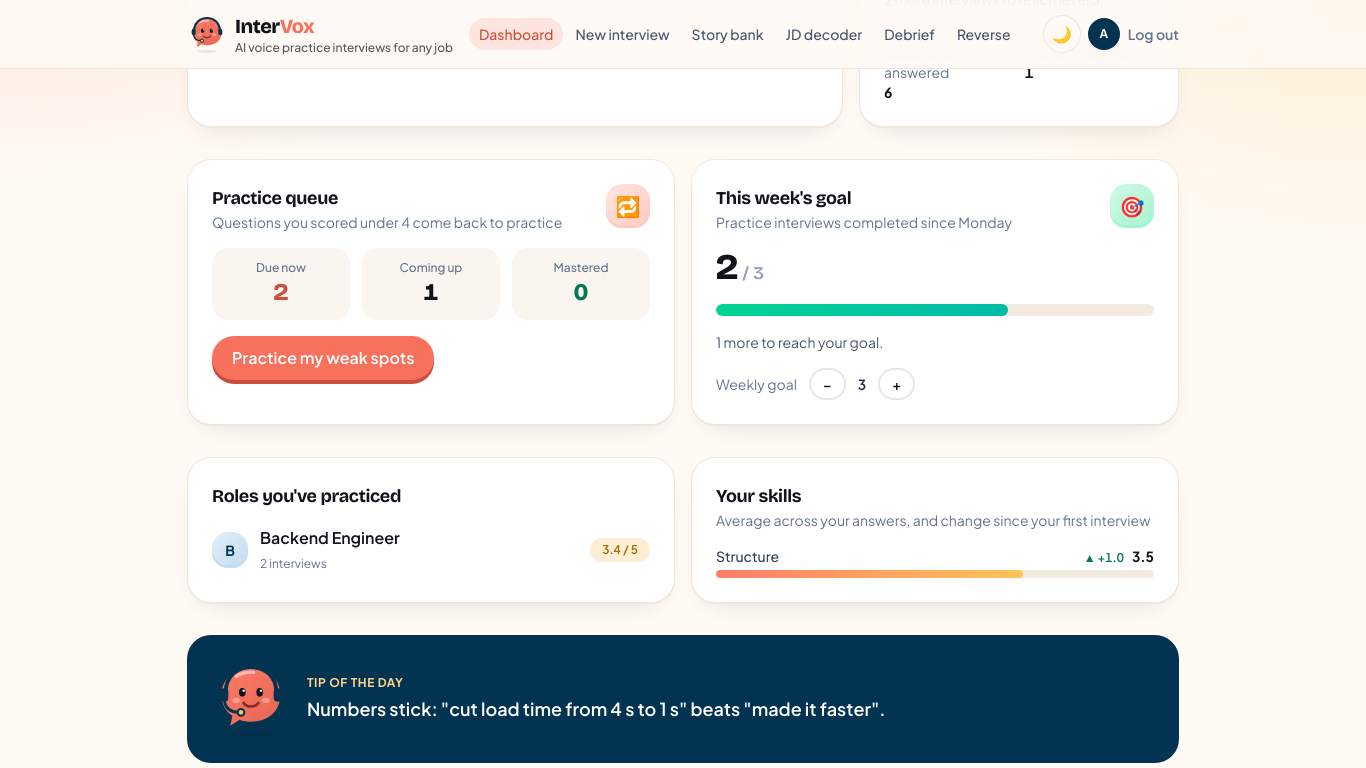
Scenario: dashboard progress › shows and changes the weekly goal, and skill change
The width and height of the screenshot is (1366, 768).
(page scrolled)
Expected: the text "1 more to reach your goal." is shown, [716,333,883,351]
Click the button named "Raise weekly goal". click: x=897, y=384
box: [878,368,915,400]
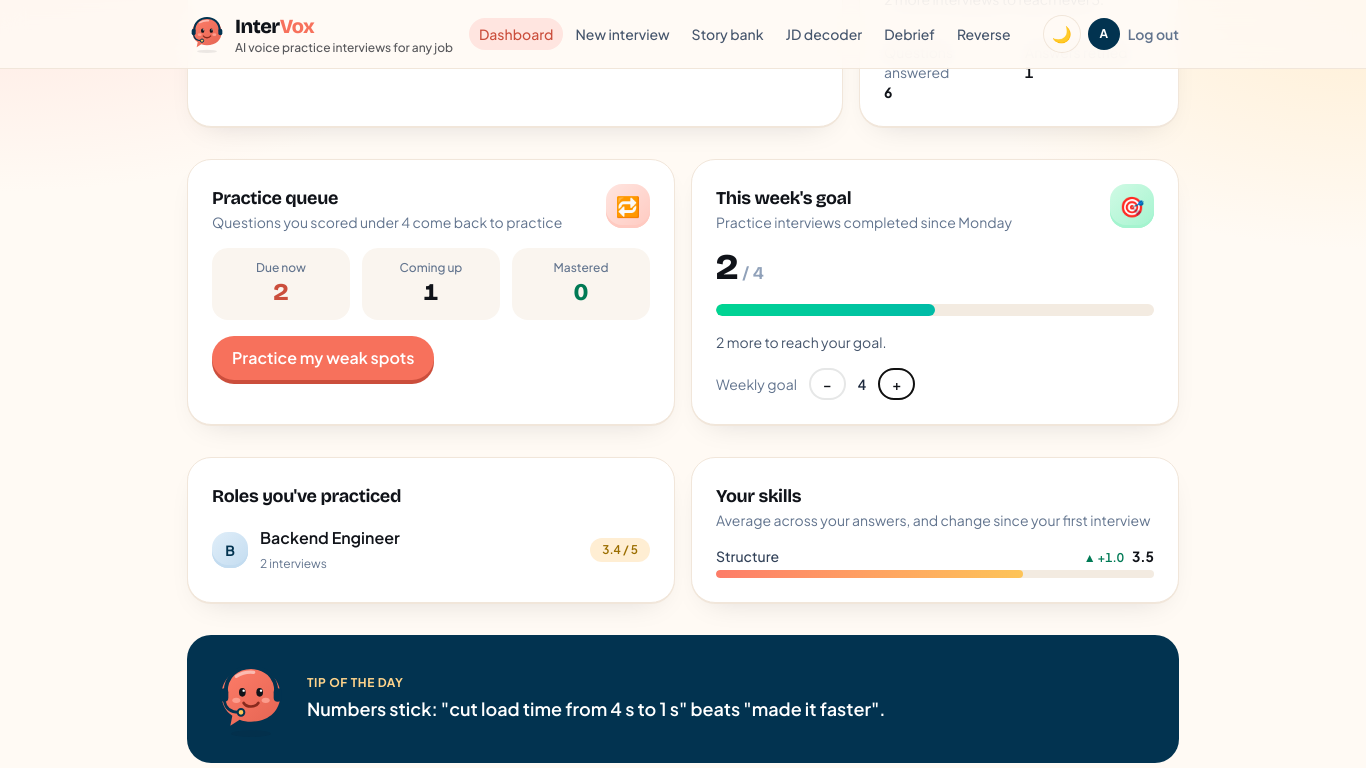
Expected: the text "▲ +1.0" is shown, [1084,550,1124,566]
Result: the text "2 more to reach your goal." is shown at [716,333,886,351]
